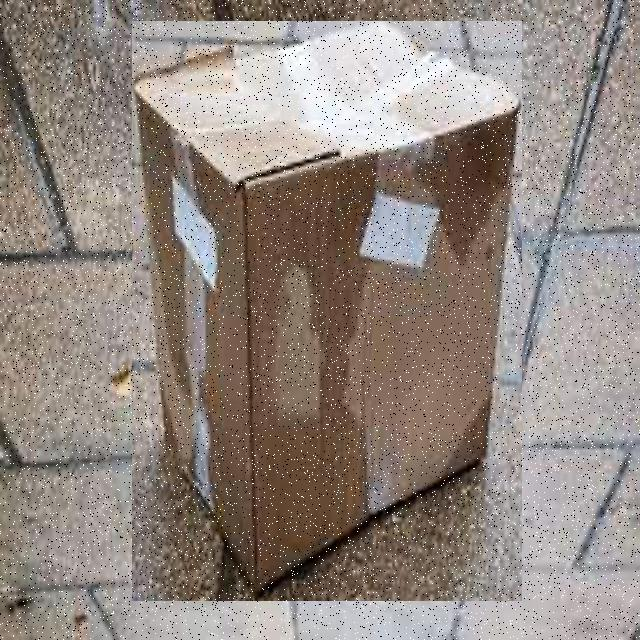defect: (132, 21, 522, 601)
